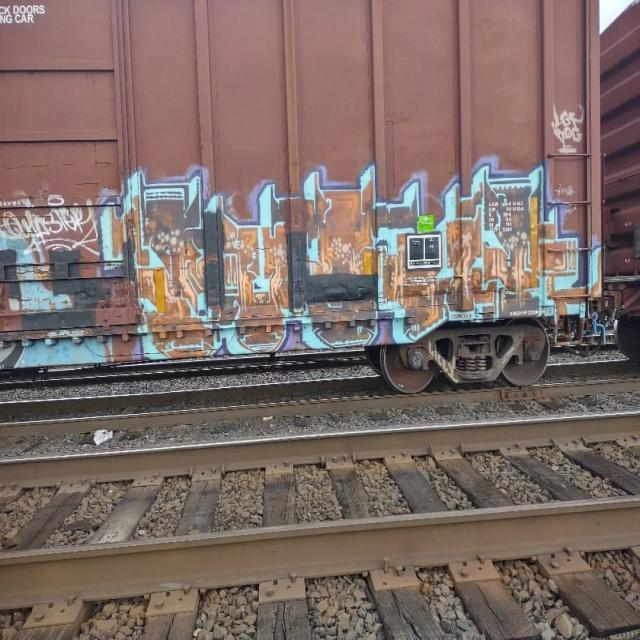nonspitting: (0, 156, 603, 368)
